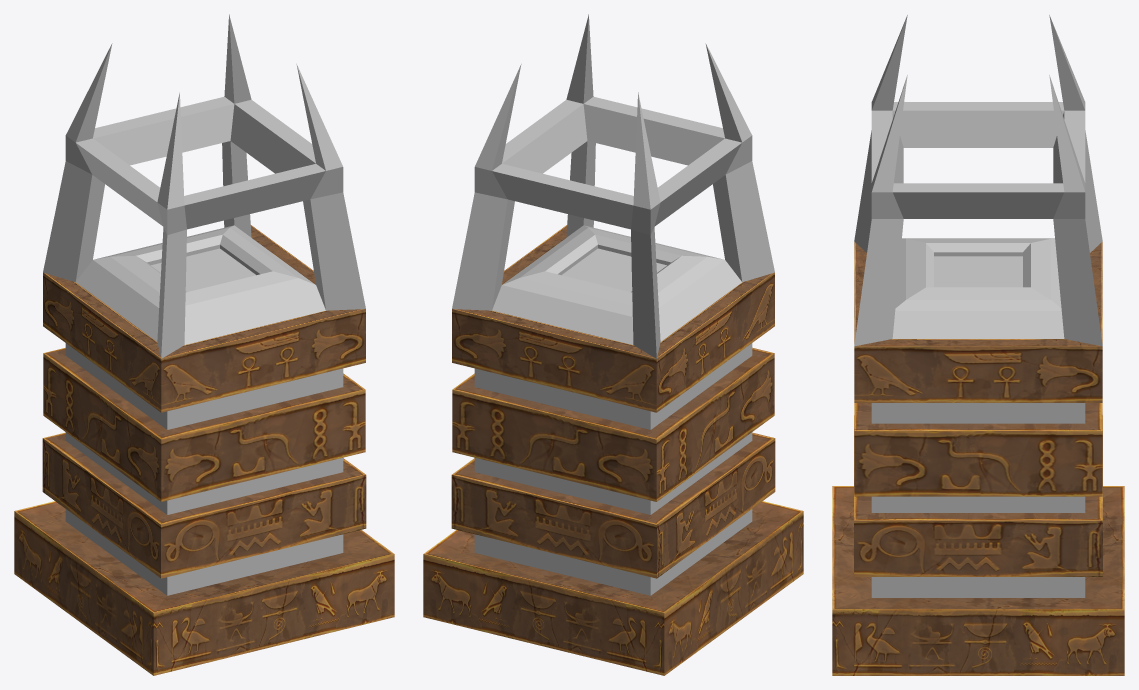
The model's file is torches.fbx.
3 renders of one model, left to right at view 1: azimuth 30°, elevation 25°; view 2: azimuth 150°, elevation 25°; view 3: azimuth 270°, elevation 25°, orthographic. The views are drawn at different scales.
Visible parts, largest first — view 1: torch1; view 2: torch1; view 3: torch1.
Boxes of the visible parts, <box> form: torch1: <box>14,14,394,675</box>; torch1: <box>423,14,803,675</box>; torch1: <box>832,15,1124,675</box>.
Bounding box in the file's own units: 469 × 1010 × 469.
